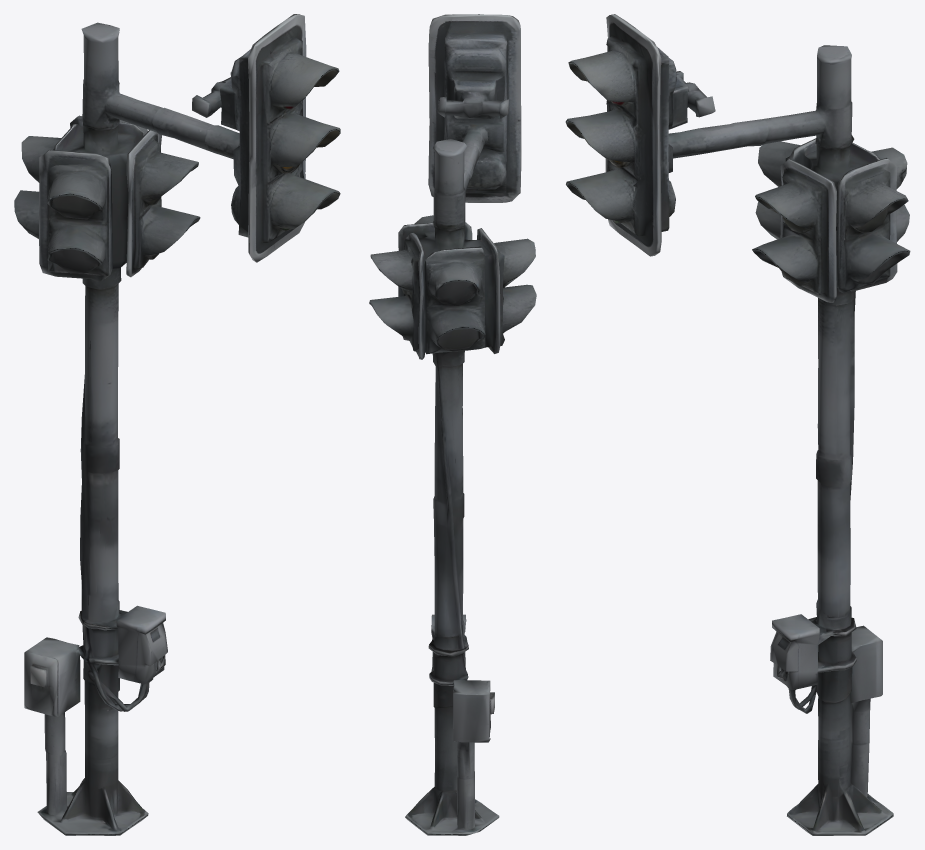
The model's file is roadsignallight.glb.
3 renders of one model, left to right at view 1: azimuth 30°, elevation 25°; view 2: azimuth 150°, elevation 25°; view 3: azimuth 270°, elevation 25°, orthographic. The views are drawn at different scales.
Visible parts, largest first — view 1: tripo_node_8e597679-32af-4bbb-bbd8-af37c805d6da; view 2: tripo_node_8e597679-32af-4bbb-bbd8-af37c805d6da; view 3: tripo_node_8e597679-32af-4bbb-bbd8-af37c805d6da.
Boxes of the visible parts, x1,y1,x2,y2 form: tripo_node_8e597679-32af-4bbb-bbd8-af37c805d6da: (14, 14, 340, 835); tripo_node_8e597679-32af-4bbb-bbd8-af37c805d6da: (369, 14, 536, 835); tripo_node_8e597679-32af-4bbb-bbd8-af37c805d6da: (565, 14, 910, 835).
Size of the model in its own units: 0.2364 by 1 by 0.3786.
1 material, 1 textured.
